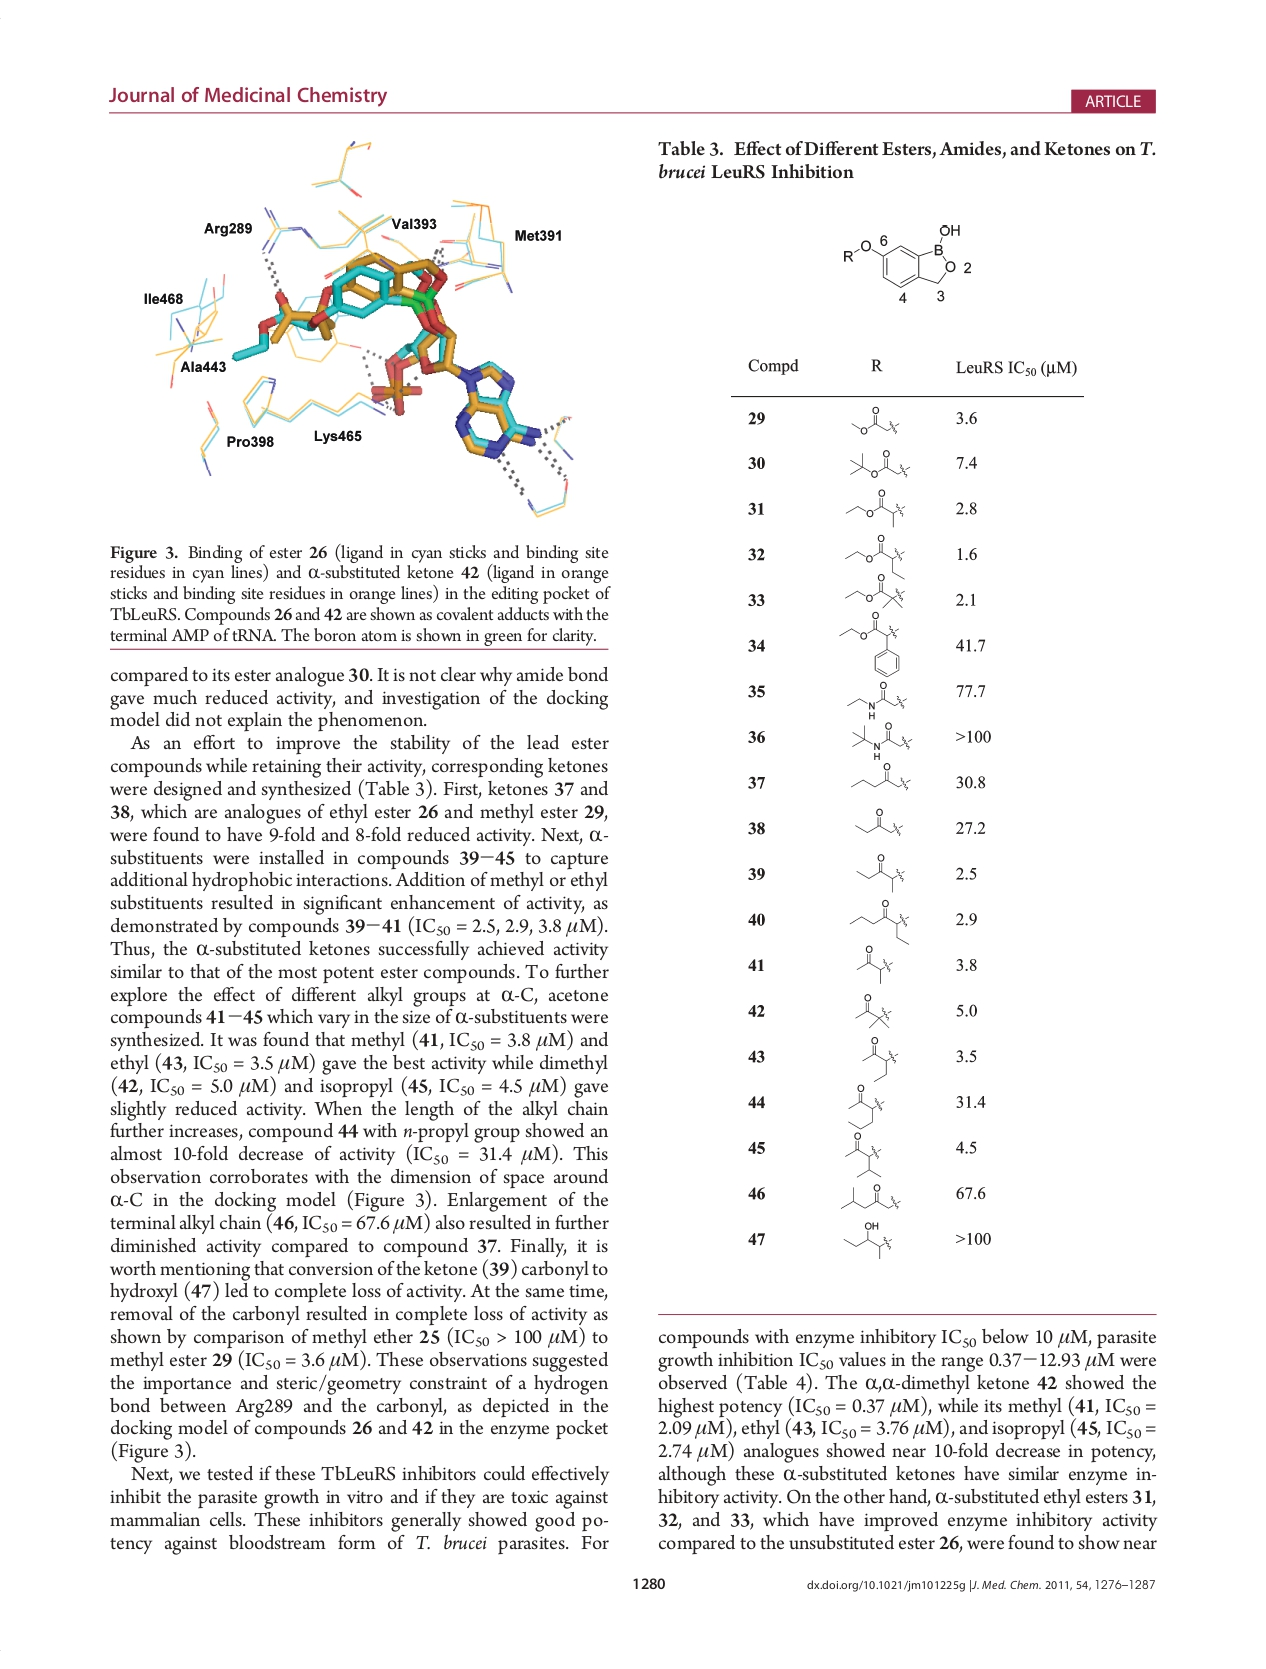exist_molecular: (838, 222, 964, 290), (838, 612, 910, 680), (842, 528, 907, 580), (846, 896, 914, 944), (839, 680, 911, 721), (844, 485, 910, 531), (848, 721, 916, 762), (842, 573, 910, 612), (852, 850, 911, 894), (846, 446, 914, 481), (848, 762, 915, 797), (840, 1220, 899, 1258), (850, 805, 910, 840), (856, 1035, 900, 1083), (843, 1083, 887, 1130), (839, 1180, 902, 1213), (843, 1130, 884, 1178), (851, 985, 894, 1031), (852, 942, 895, 985), (848, 402, 902, 436)
